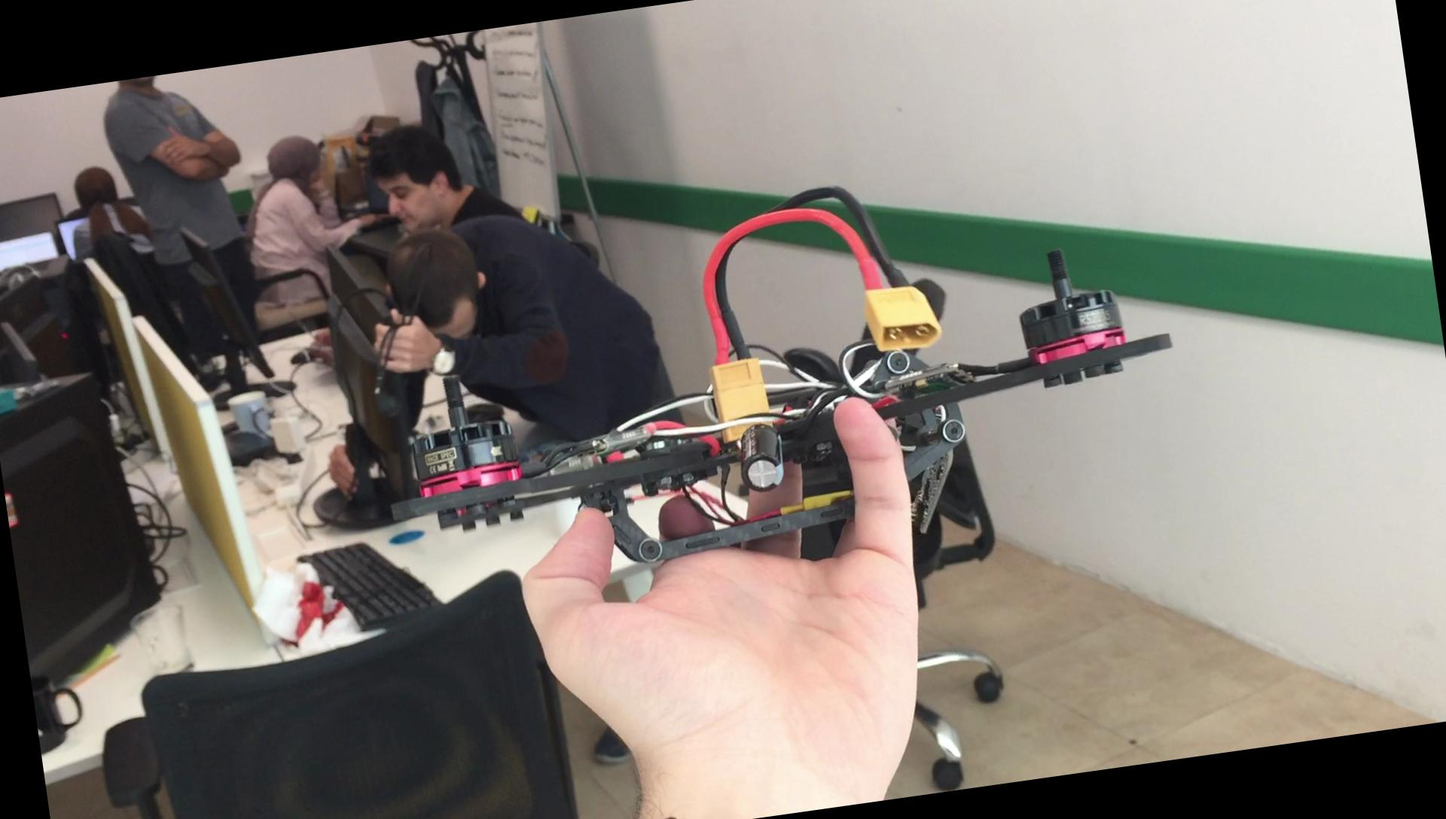drone: (297, 215, 1269, 626)
